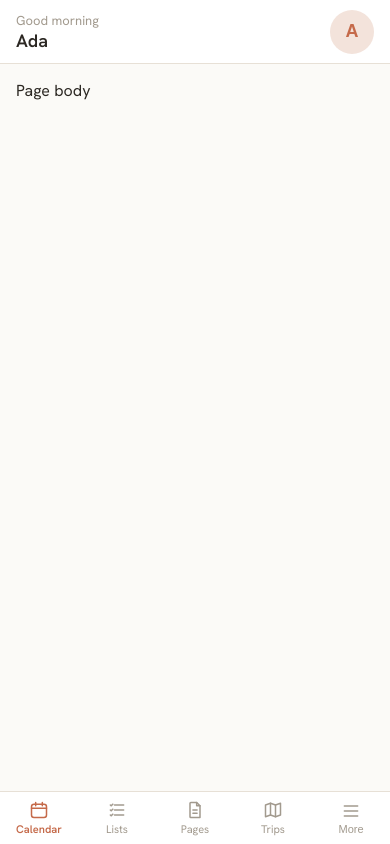
Scenario: AppShell › opens the nav drawer from the More tab
Step 1. Click the button "More" → point(351, 818), box [312,792,389,843]
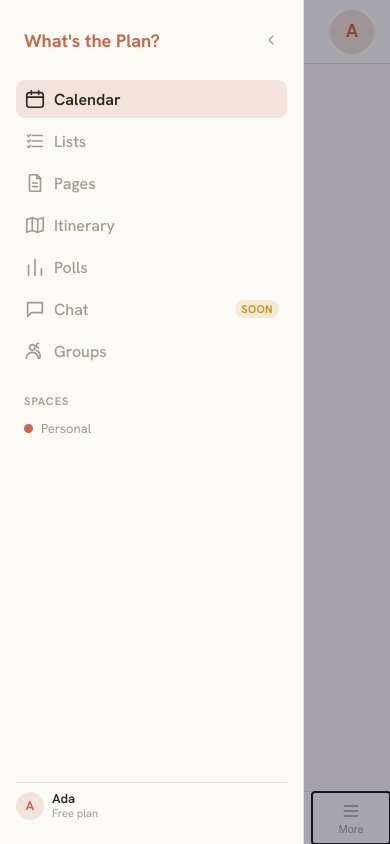
Expected: the button named "Close menu" is shown
